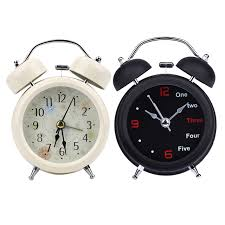alarm_clock: (10, 38, 210, 179), (10, 41, 210, 179)
